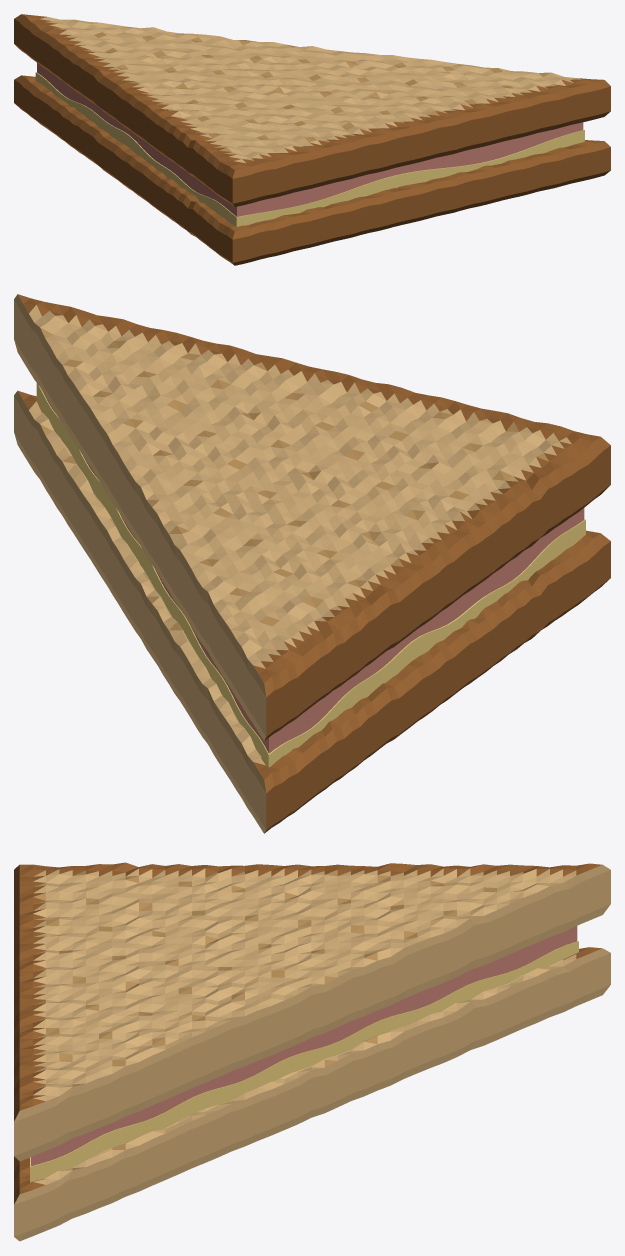
The picture shows the model from 3 angles, top to bottom: view 1: azimuth 30°, elevation 25°; view 2: azimuth 150°, elevation 25°; view 3: azimuth 270°, elevation 25°; orthographic projection. The views are drawn at different scales.
Visible parts, largest first — view 1: NEW326_top_bread, NEW326_bottom_bread, NEW326_filling, NEW326_cheese; view 2: NEW326_top_bread, NEW326_bottom_bread, NEW326_cheese, NEW326_filling; view 3: NEW326_top_bread, NEW326_bottom_bread, NEW326_cheese, NEW326_filling.
Part boxes in pixels (bbox=[...]): NEW326_top_bread: bbox=[14, 14, 610, 206]; NEW326_bottom_bread: bbox=[14, 75, 610, 265]; NEW326_filling: bbox=[37, 63, 583, 216]; NEW326_cheese: bbox=[35, 72, 584, 226]; NEW326_top_bread: bbox=[14, 294, 610, 740]; NEW326_bottom_bread: bbox=[14, 390, 610, 833]; NEW326_cheese: bbox=[36, 383, 585, 767]; NEW326_filling: bbox=[43, 393, 584, 753]; NEW326_top_bread: bbox=[14, 862, 610, 1161]; NEW326_bottom_bread: bbox=[14, 947, 610, 1241]; NEW326_cheese: bbox=[30, 941, 578, 1182]; NEW326_filling: bbox=[31, 926, 577, 1166].
Bounding box in the file's own units: 0.11 × 0.0273 × 0.11.
